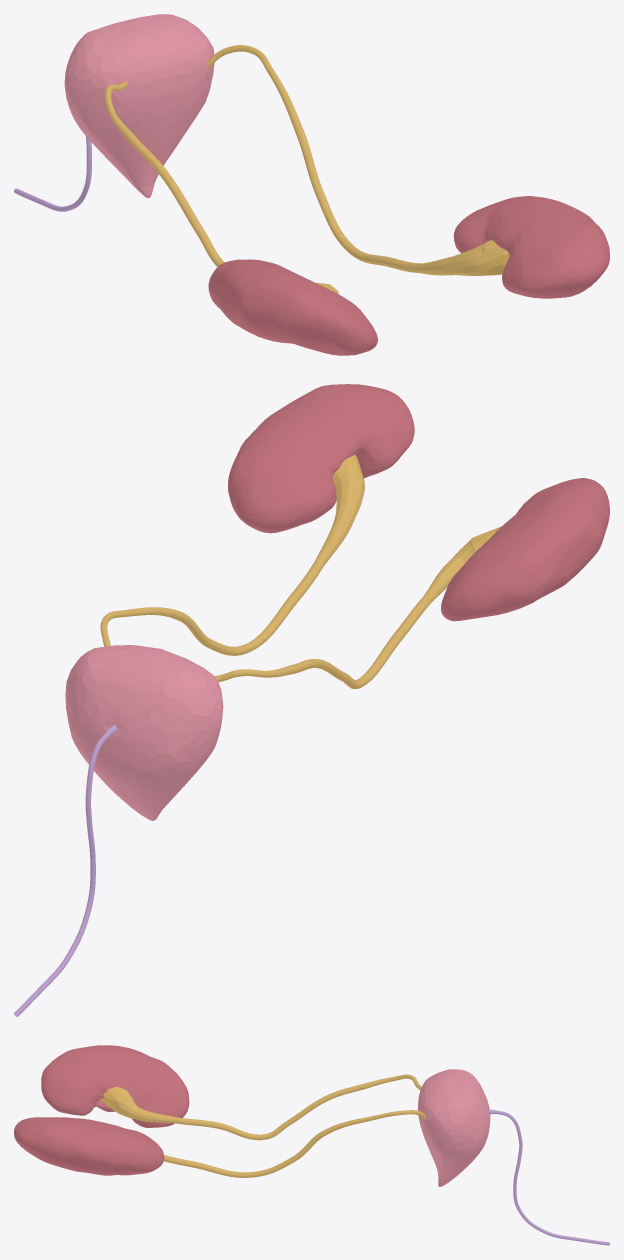
File: meshopt-lossless-afc778780e24.glb
3 views of the same model, one above another, from view 1: azimuth 30°, elevation 25°; view 2: azimuth 150°, elevation 25°; view 3: azimuth 270°, elevation 25° (orthographic). The views are drawn at different scales.
Visible parts, largest first — view 1: 膀胱, 左侧肾, 右侧肾, 左侧输尿管, 右侧输尿管, 尿道, 左侧肾盂; view 2: 膀胱, 左侧肾, 右侧肾, 左侧输尿管, 右侧输尿管, 尿道; view 3: 右侧肾, 左侧肾, 膀胱, 右侧输尿管, 左侧输尿管, 尿道, 右侧肾盂.
Part boxes in pixels (x1,y1,x2,y2): 膀胱: (64,14,214,198); 左侧肾: (453,196,609,298); 右侧肾: (208,259,377,355); 左侧输尿管: (206,45,490,275); 右侧输尿管: (104,82,224,266); 尿道: (14,136,91,211); 左侧肾盂: (481,240,509,275); 膀胱: (65,645,223,820); 左侧肾: (228,384,414,533); 右侧肾: (441,478,609,621); 左侧输尿管: (100,470,364,655); 右侧输尿管: (215,540,475,688); 尿道: (14,725,117,1016); 右侧肾: (41,1045,189,1127); 左侧肾: (14,1117,164,1175); 膀胱: (417,1069,490,1186); 右侧输尿管: (117,1074,421,1140); 左侧输尿管: (164,1110,425,1177); 尿道: (488,1109,609,1245); 右侧肾盂: (99,1086,133,1112).
Size of the model in its own units: 0.4234 by 0.3075 by 1.
